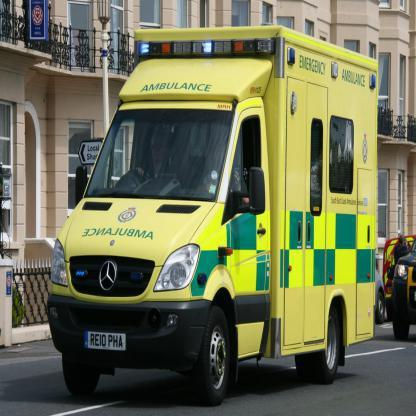Ambulance - v1 Ambulance last generate: (49, 24, 398, 399)
